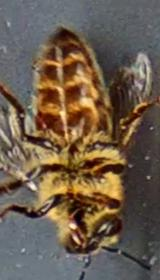varroa_mite: (30, 107, 56, 144)
